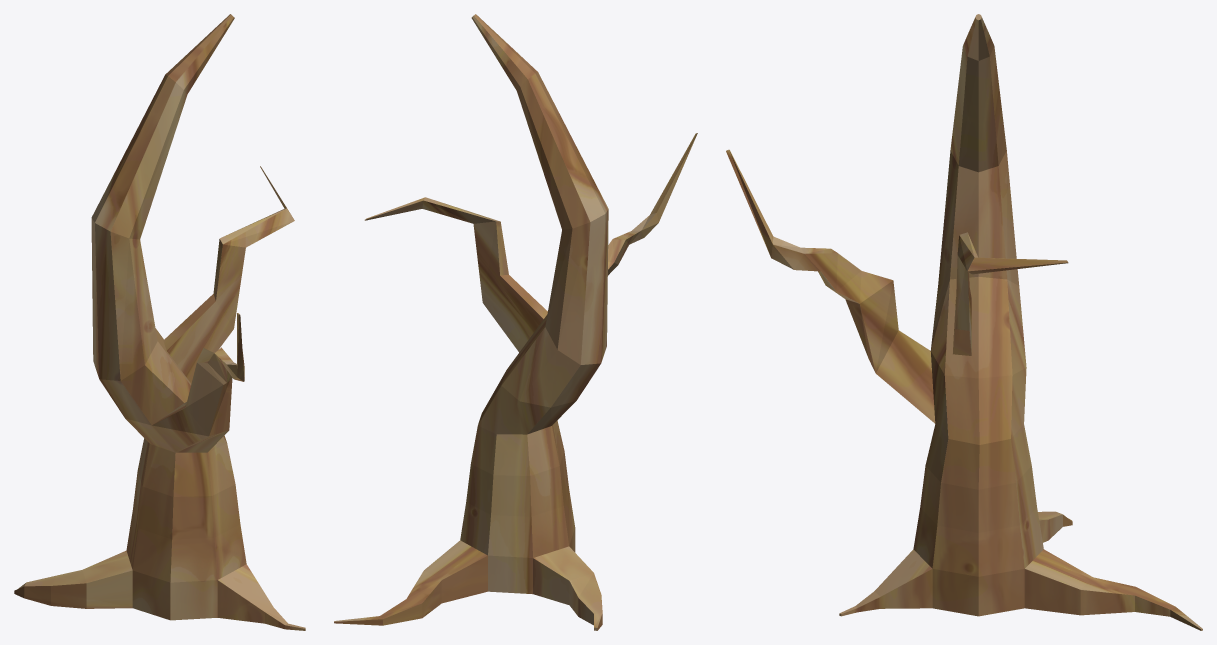
File: Tree2.fbx
3 renders of one model, left to right at view 1: azimuth 30°, elevation 25°; view 2: azimuth 150°, elevation 25°; view 3: azimuth 270°, elevation 25°, orthographic. The views are drawn at different scales.
Parts seen in each view (by area): view 1: Cylinder006; view 2: Cylinder006; view 3: Cylinder006.
Part boxes in pixels (left/top/right/bottom): Cylinder006: left=14, top=14, right=305, bottom=630; Cylinder006: left=334, top=14, right=697, bottom=630; Cylinder006: left=726, top=14, right=1202, bottom=630.
Bounding box in the file's own units: 4.26 × 6.85 × 9.5.
